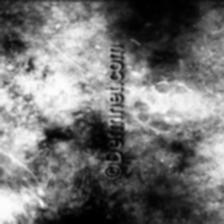Potentially Malignant Skin Tumors: (23, 178, 133, 224), (130, 0, 191, 44)
